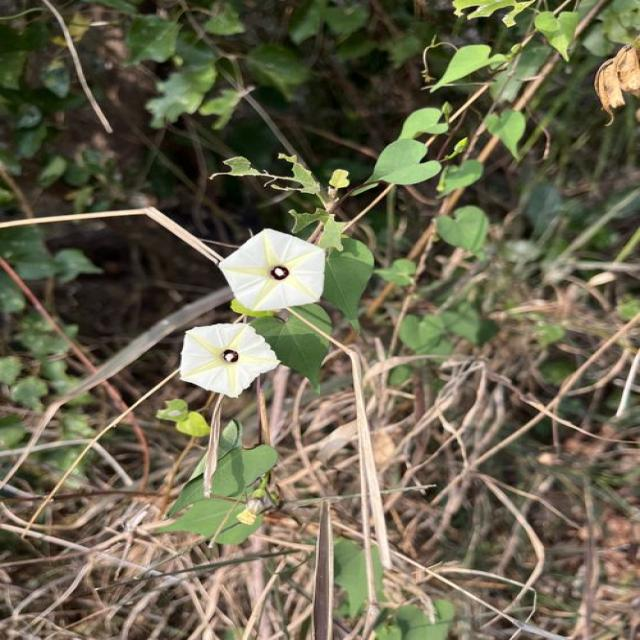ipomoea: (214, 226, 330, 316), (174, 321, 284, 400)
